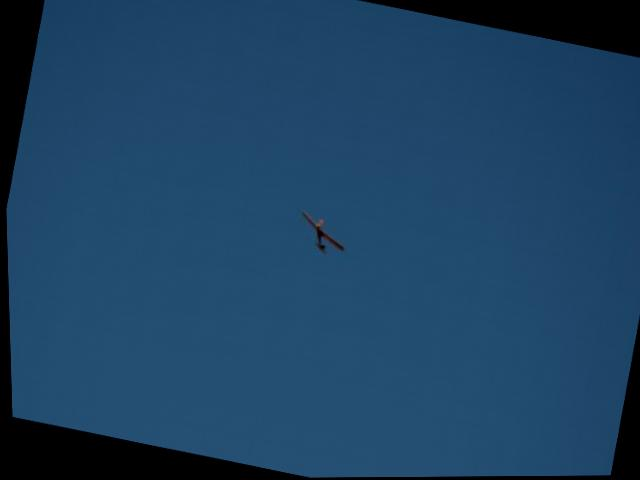iha: (290, 211, 353, 262)
